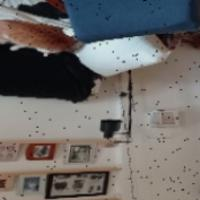asleep: (0, 19, 76, 57)
